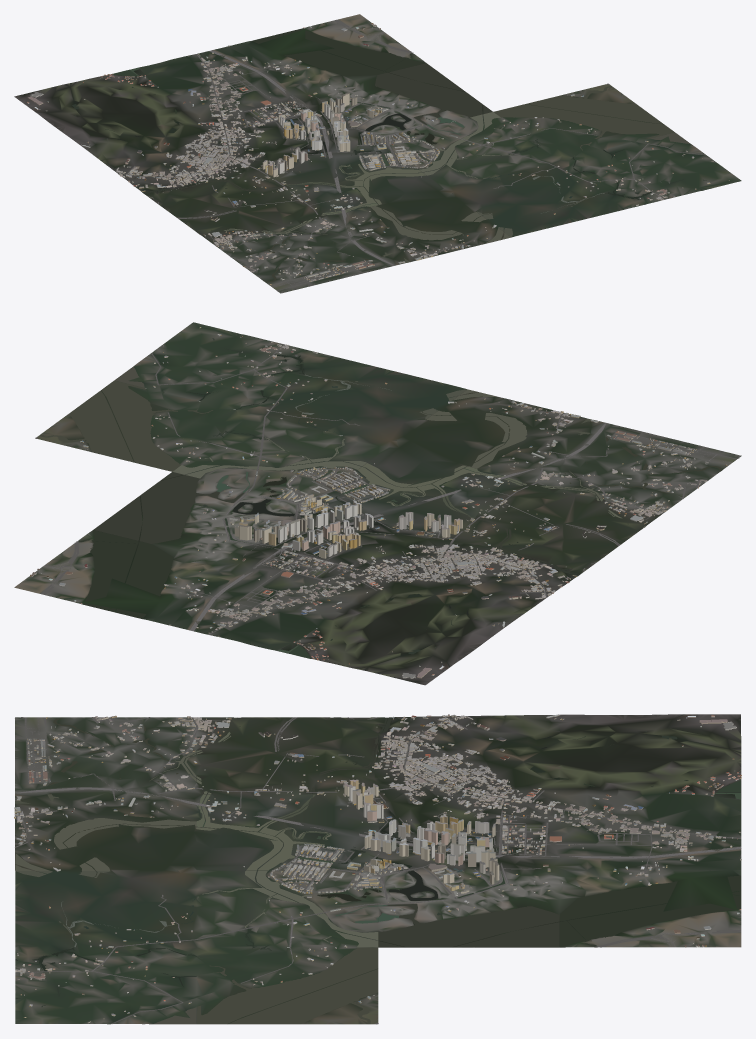
3 renders of one model, top to bottom at view 1: azimuth 30°, elevation 25°; view 2: azimuth 150°, elevation 25°; view 3: azimuth 270°, elevation 25°, orthographic. The views are drawn at different scales.
Parts seen in each view (by area): view 1: ground, water, buildings, roads; view 2: ground, water, buildings, roads; view 3: ground, water, buildings, roads.
Boxes of the visible parts, <box> form: ground: <box>14,14,741,293</box>; water: <box>72,28,706,282</box>; buildings: <box>27,23,729,284</box>; roads: <box>117,19,706,293</box>; ground: <box>14,322,741,685</box>; water: <box>39,333,721,658</box>; buildings: <box>30,327,727,678</box>; roads: <box>35,344,740,634</box>; ground: <box>15,714,741,1024</box>; water: <box>15,717,741,1024</box>; buildings: <box>14,714,741,1023</box>; roads: <box>15,715,741,1024</box>.
Bounding box in the file's own units: 5616 × 135 × 5616.
